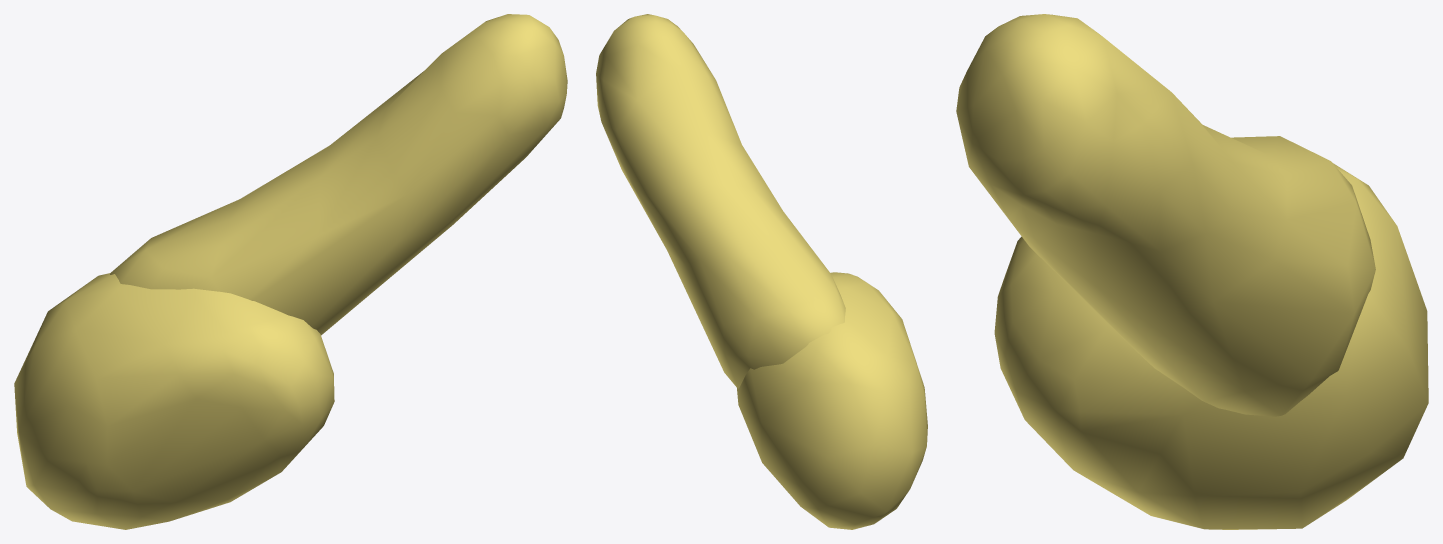
Rendered from inferior-colliculus-l.glb.
3 renders of one model, left to right at view 1: azimuth 30°, elevation 25°; view 2: azimuth 150°, elevation 25°; view 3: azimuth 270°, elevation 25°, orthographic. The views are drawn at different scales.
Visible parts, largest first — view 1: Inferior colliculus.l; view 2: Inferior colliculus.l; view 3: Inferior colliculus.l.
Part boxes in pixels (left/top/right/bottom): Inferior colliculus.l: left=14, top=14, right=567, bottom=529; Inferior colliculus.l: left=596, top=14, right=927, bottom=529; Inferior colliculus.l: left=956, top=14, right=1428, bottom=529.
Size of the model in its own units: 0.0141 by 0.0141 by 0.00825.
